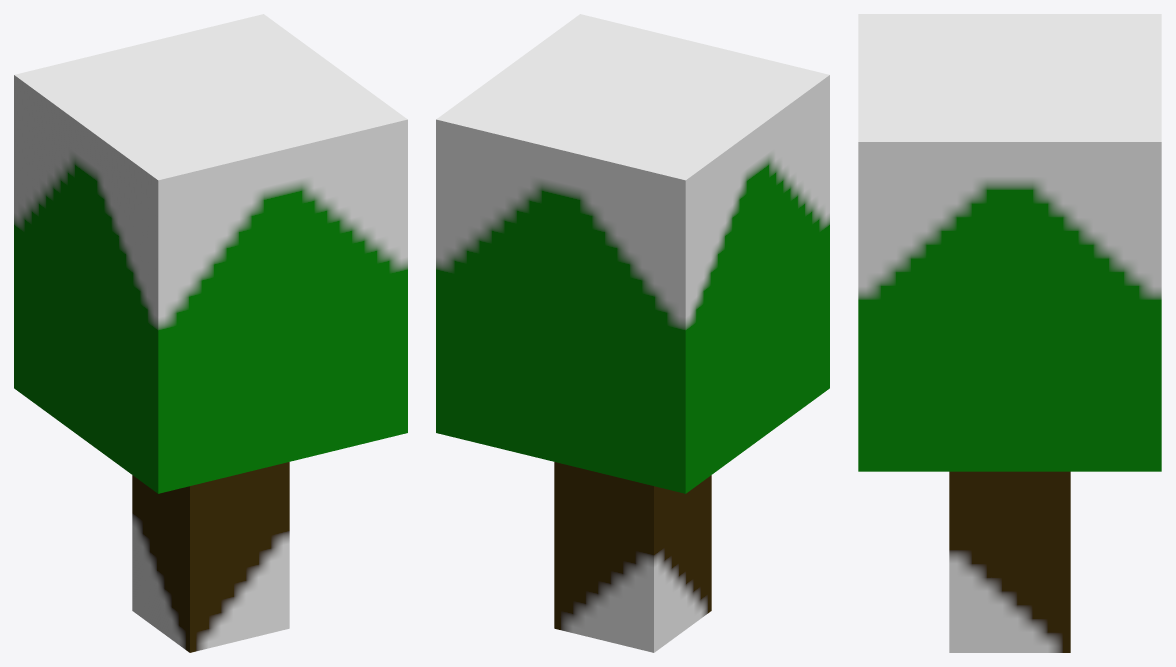
Rendered from Pine_6.fbx.
3 views of the same model, side by side, from view 1: azimuth 30°, elevation 25°; view 2: azimuth 150°, elevation 25°; view 3: azimuth 270°, elevation 25° (orthographic). The views are drawn at different scales.
Visible parts, largest first — view 1: Pine_6; view 2: Pine_6; view 3: Pine_6.
Part boxes in pixels (x1,y1,x2,y2): Pine_6: (14,14,407,652); Pine_6: (436,14,829,652); Pine_6: (858,14,1161,652).
Size of the model in its own units: 20 by 40 by 20.
1 material, 1 textured.
